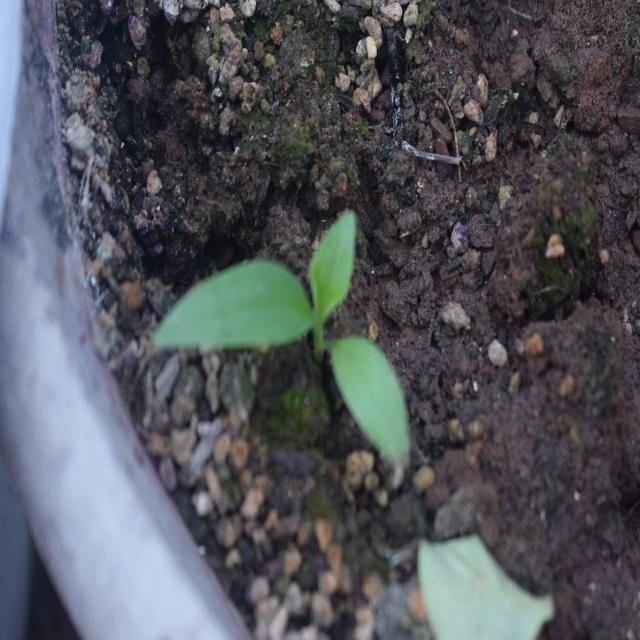Common Dayflower: (176, 203, 425, 485)
